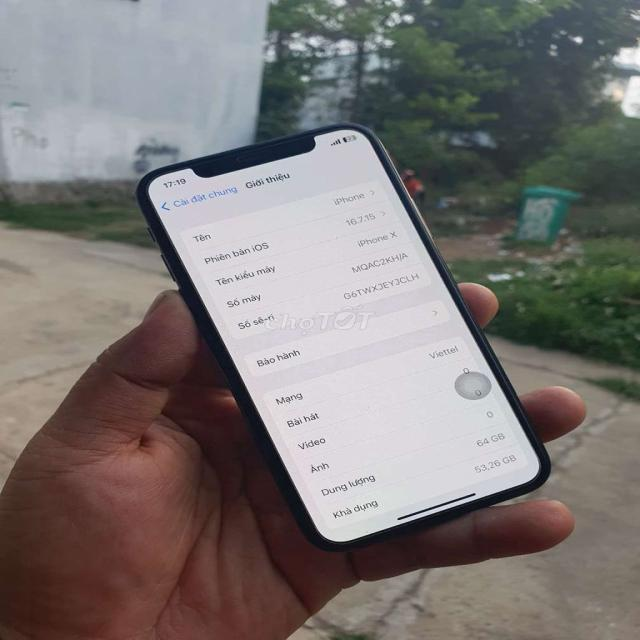gen_x_xs: (138, 124, 549, 550)
